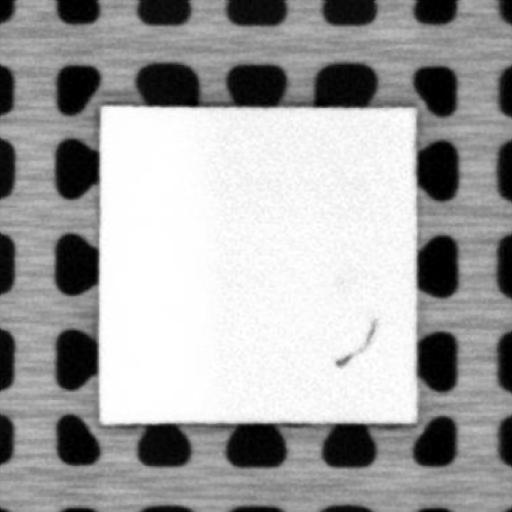DIE_INK: (335, 316, 379, 368)
